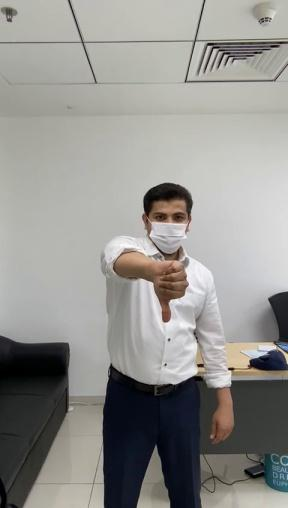thumbs-down: (153, 255, 189, 321)
